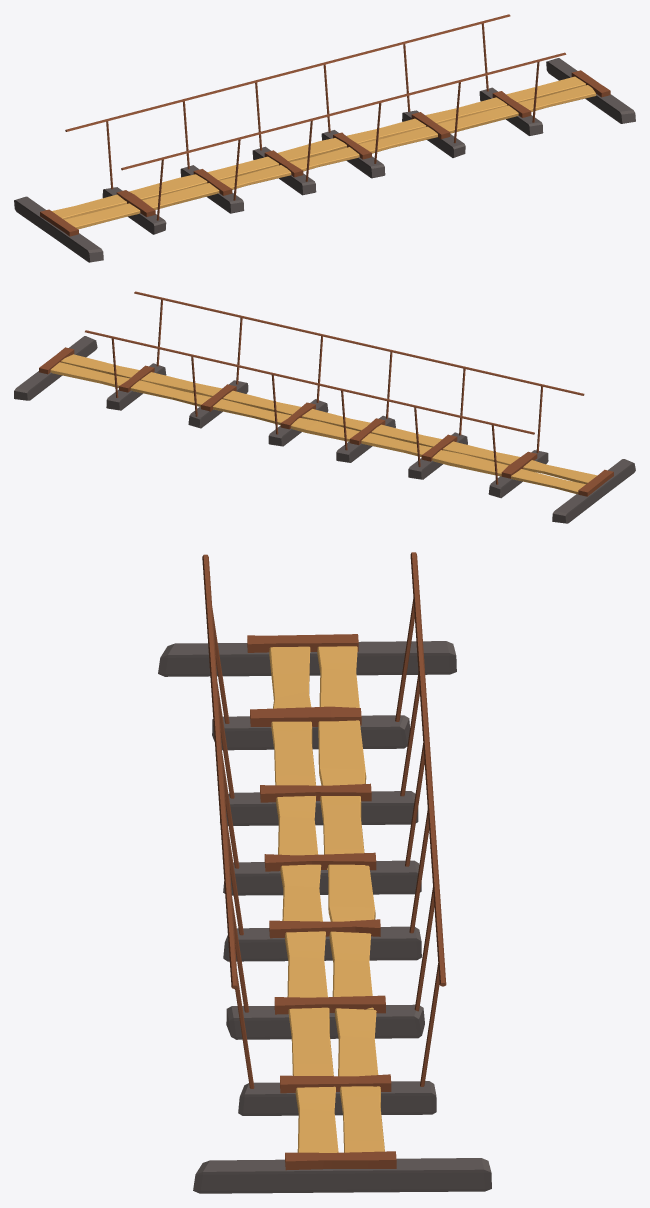
Rendered from Bridge2 .fbx.
The picture shows the model from 3 angles, top to bottom: view 1: azimuth 30°, elevation 25°; view 2: azimuth 150°, elevation 25°; view 3: azimuth 270°, elevation 25°; orthographic projection. The views are drawn at different scales.
Parts seen in each view (by area): view 1: Bridge .001; view 2: Bridge .001; view 3: Bridge .001.
Part boxes in pixels (left/top/right/bottom): Bridge .001: left=14, top=14, right=635, bottom=262; Bridge .001: left=14, top=291, right=635, bottom=523; Bridge .001: left=158, top=552, right=491, bottom=1193.
Bounding box in the file's own units: 733 × 96.98 × 195.
